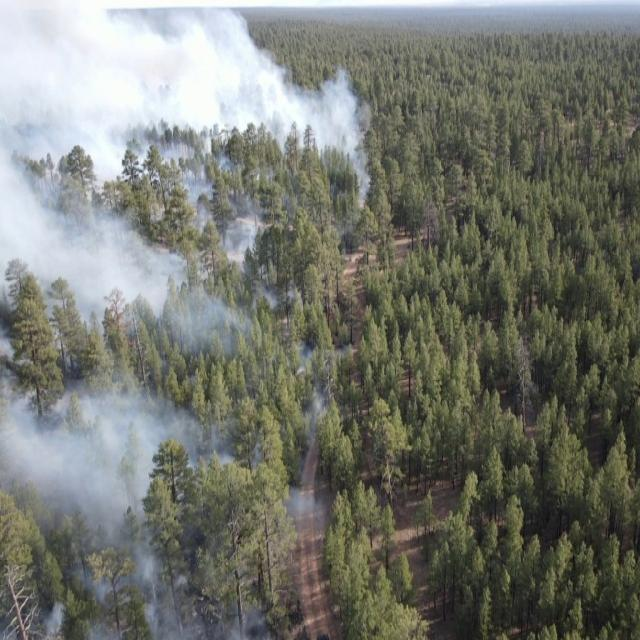smoke: (1, 0, 370, 640)
